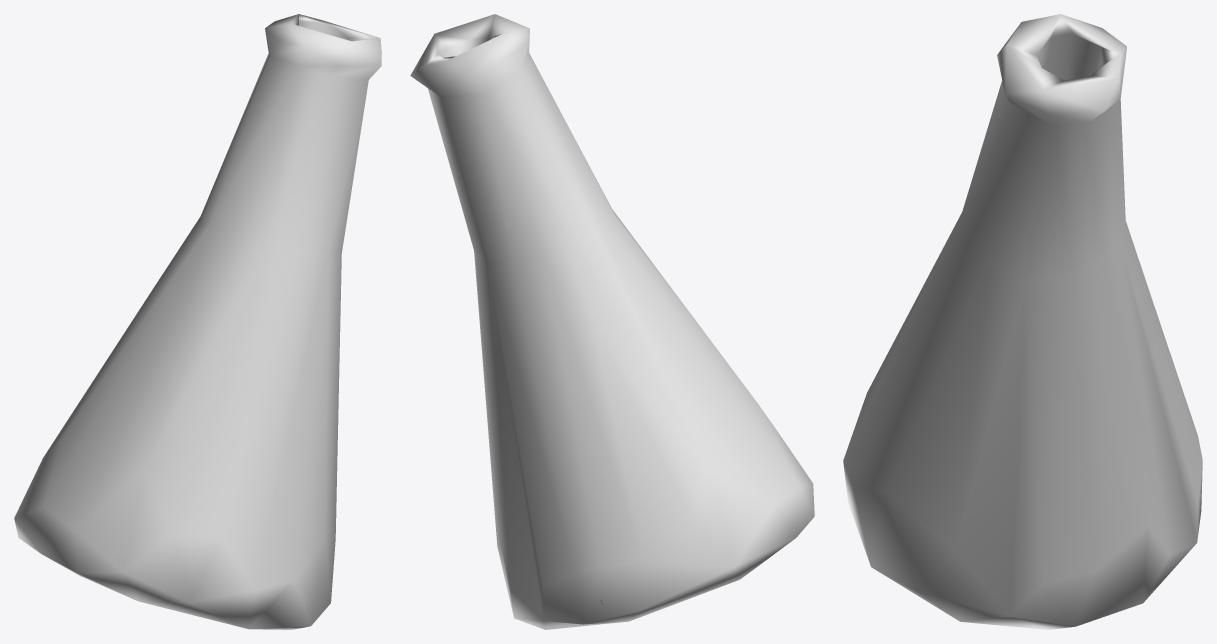
The model's file is VialEmpty_LOD1.fbx.
The picture shows the model from 3 angles, left to right: view 1: azimuth 30°, elevation 25°; view 2: azimuth 150°, elevation 25°; view 3: azimuth 270°, elevation 25°; orthographic projection. The views are drawn at different scales.
Parts seen in each view (by area): view 1: Layer_1; view 2: Layer_1; view 3: Layer_1.
Part boxes in pixels (box(x1,y1,x2,y2)): Layer_1: box(14, 14, 381, 629); Layer_1: box(410, 14, 814, 629); Layer_1: box(843, 14, 1202, 629).
Size of the model in its own units: 0.1927 by 0.1515 by 0.2916.
1 material, 1 textured.
